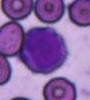M: (21, 26, 68, 74)
